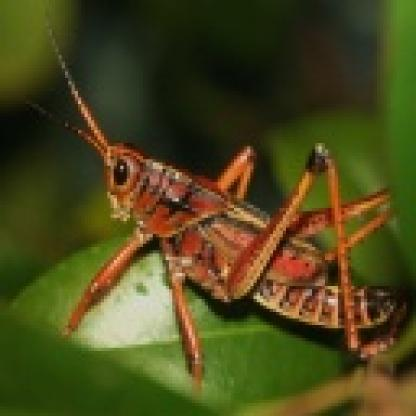grasshopper: (32, 26, 416, 370)
